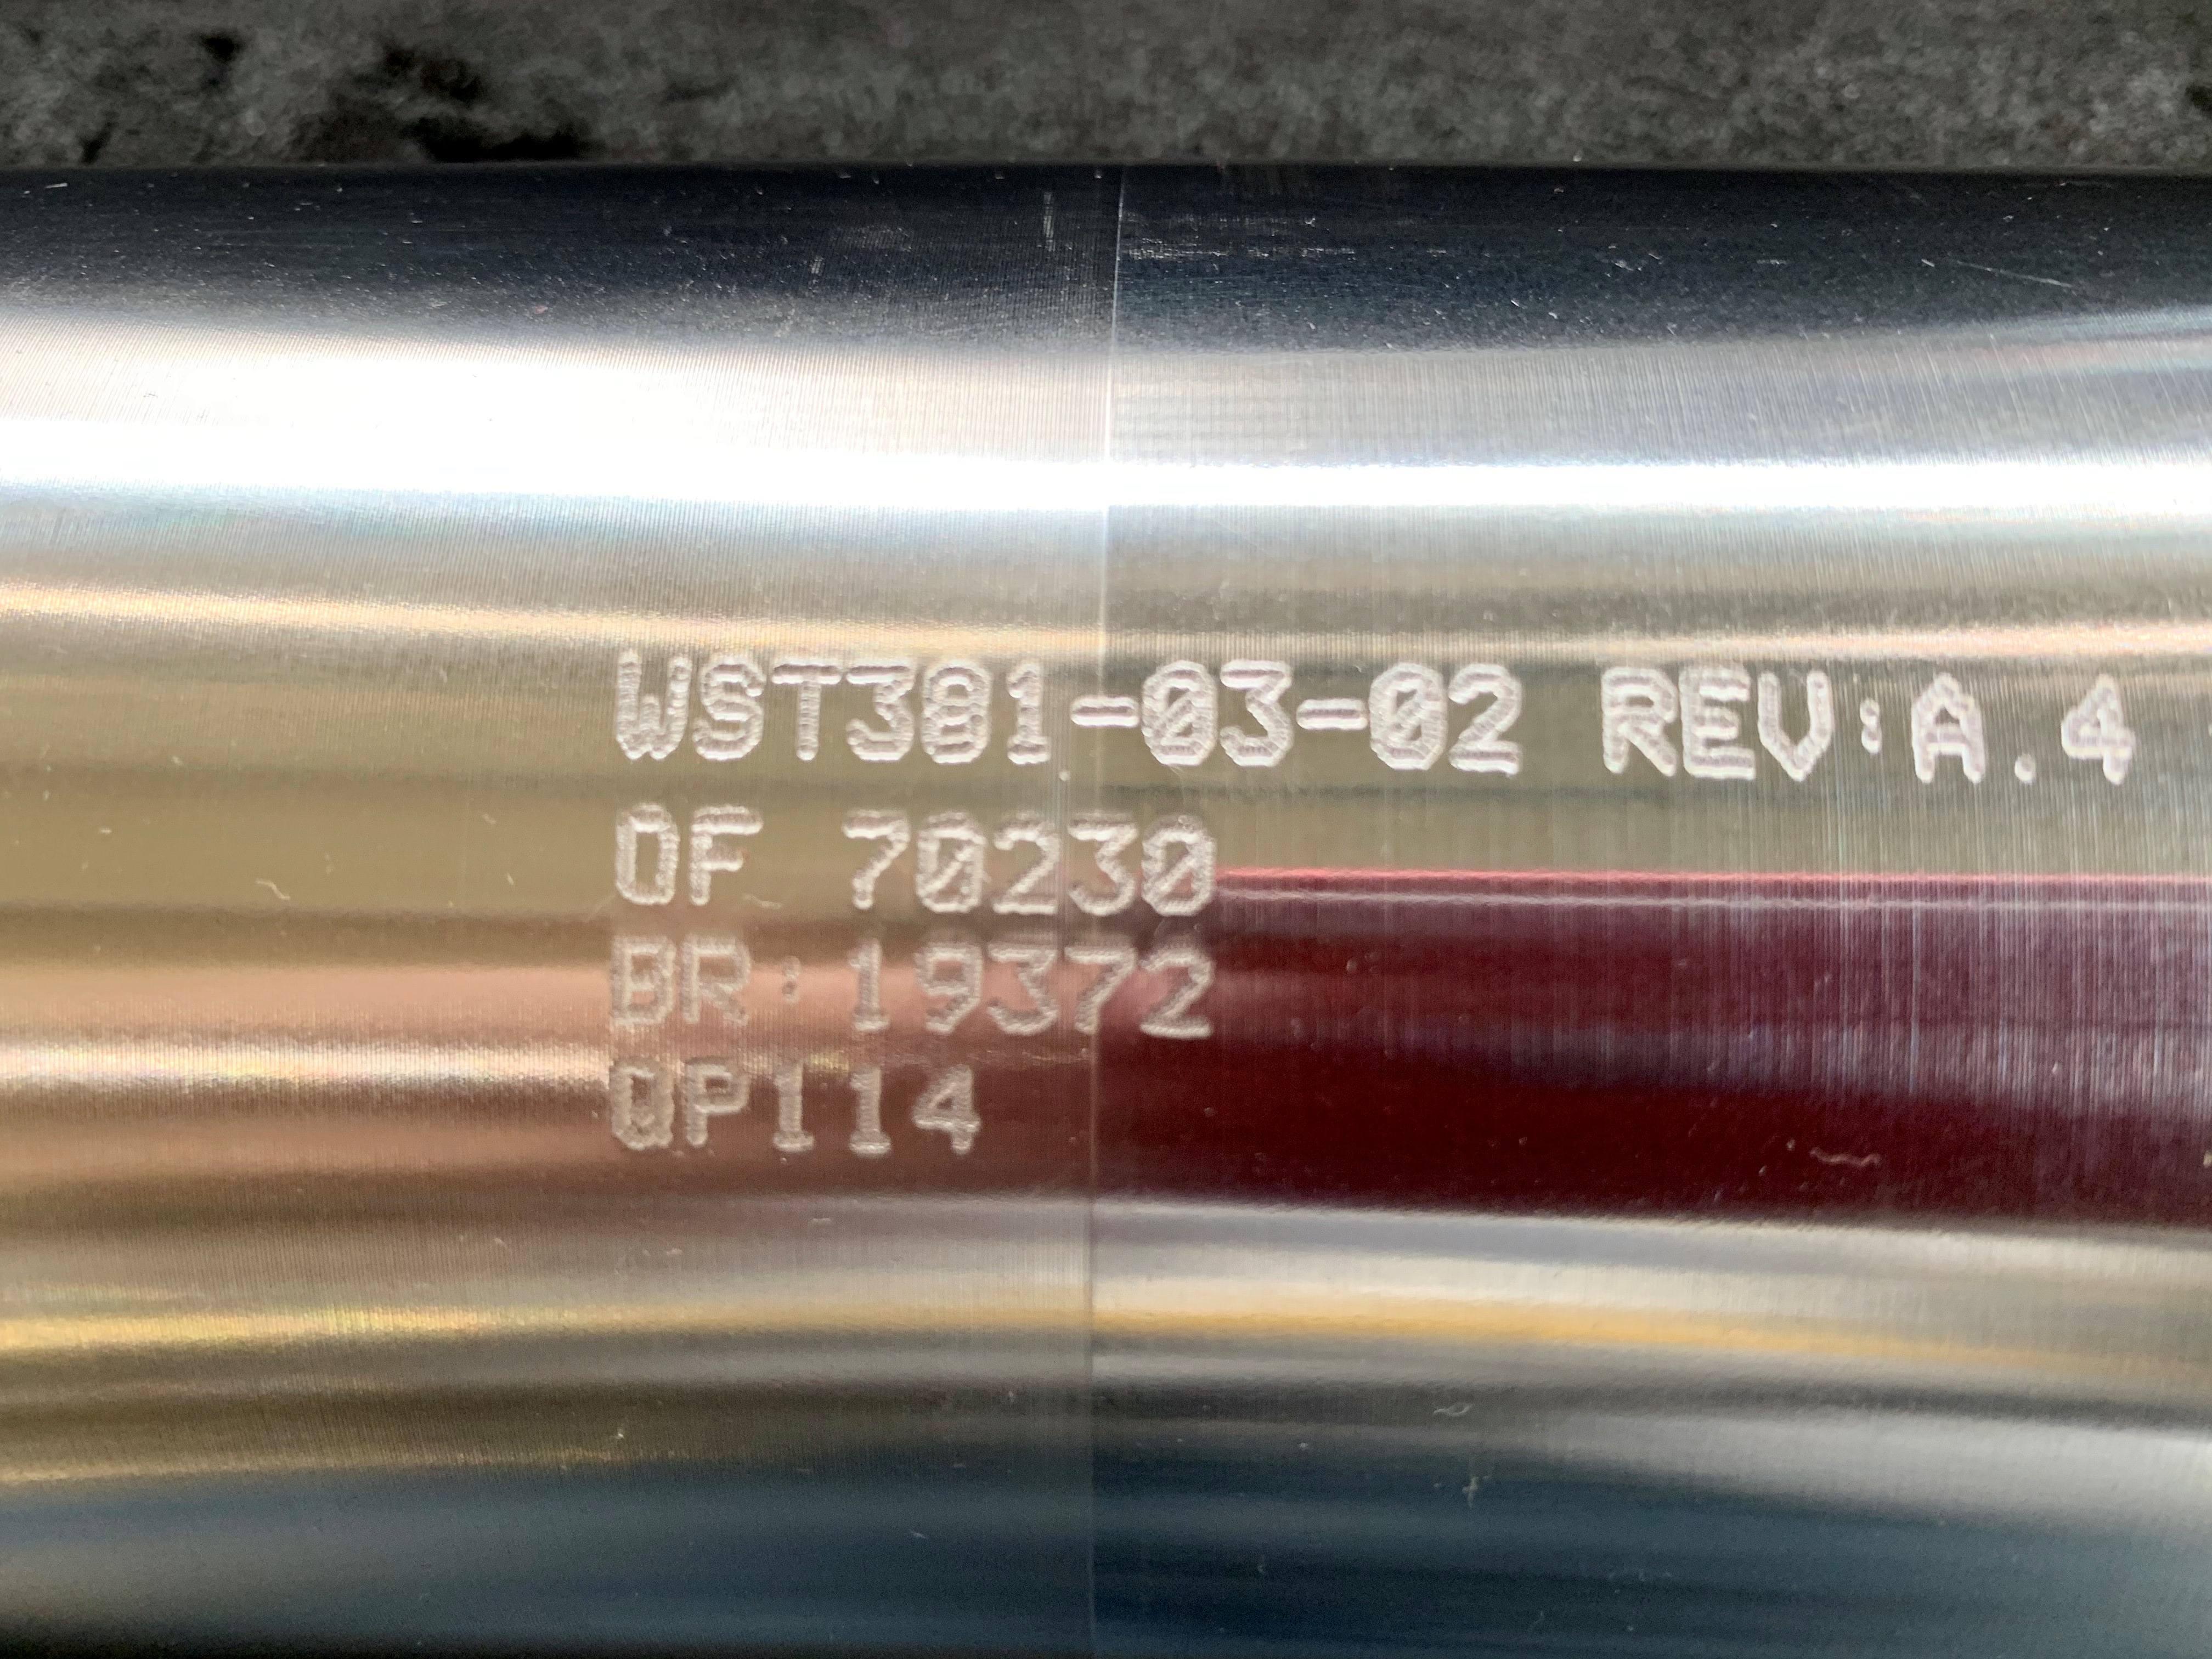character: (1592, 659, 1688, 789), (1139, 929, 1231, 1063), (900, 1042, 996, 1171), (603, 641, 695, 772), (1360, 652, 1447, 786), (1442, 655, 1529, 789), (2052, 657, 2139, 788), (1137, 640, 1223, 772), (1214, 643, 1299, 774), (1749, 660, 1839, 782), (688, 643, 773, 772), (1907, 662, 1984, 798), (834, 796, 914, 924), (1291, 652, 1371, 775), (834, 660, 918, 779), (1059, 932, 1139, 1053), (907, 807, 989, 924), (766, 653, 843, 777), (914, 655, 995, 772), (1064, 648, 1141, 770), (674, 934, 766, 1035), (679, 802, 763, 913), (1683, 666, 1757, 789), (904, 934, 995, 1035), (986, 934, 1062, 1053), (599, 1046, 685, 1152), (1064, 803, 1143, 918), (995, 648, 1066, 774), (752, 1039, 824, 1162), (601, 924, 681, 1033), (986, 807, 1064, 918), (1143, 803, 1219, 911), (606, 796, 681, 906), (678, 1044, 751, 1154), (836, 1042, 900, 1166), (840, 931, 902, 1032)
